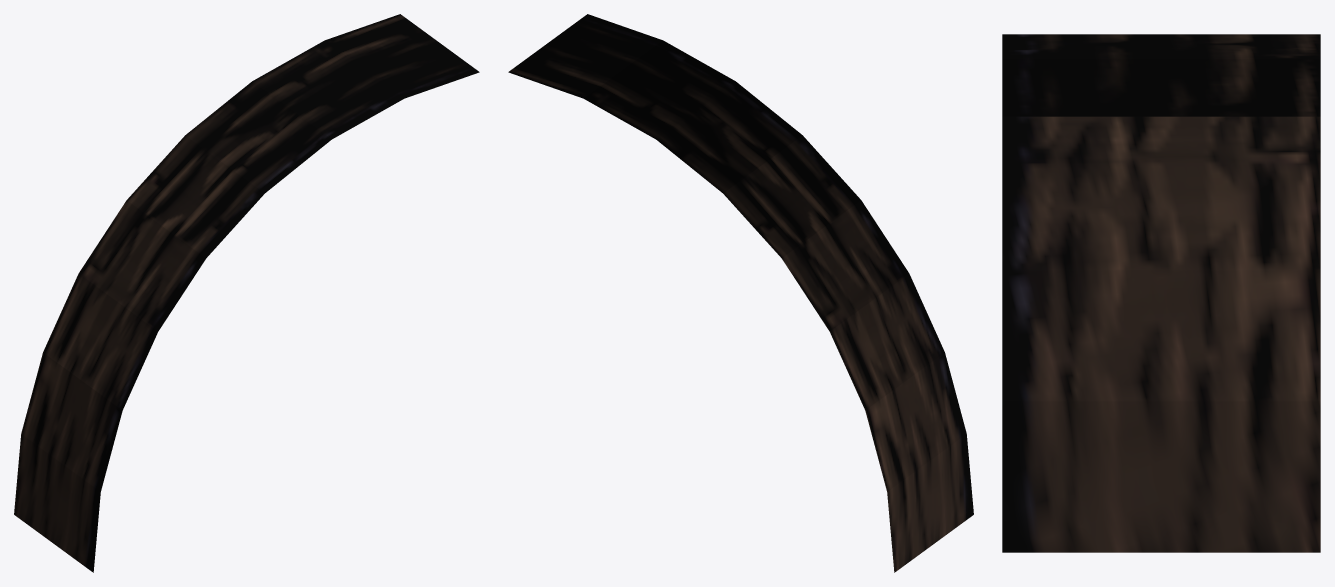
Rendered from collide_InCorner0.obj.
3 views of the same model, side by side, from view 1: azimuth 30°, elevation 25°; view 2: azimuth 150°, elevation 25°; view 3: azimuth 270°, elevation 25° (orthographic). The views are drawn at different scales.
Visible parts, largest first — view 1: ex_InCorner0_Cube; view 2: ex_InCorner0_Cube; view 3: ex_InCorner0_Cube.
Boxes of the visible parts, left/top/right/bottom form: ex_InCorner0_Cube: left=14, top=14, right=479, bottom=572; ex_InCorner0_Cube: left=508, top=14, right=973, bottom=572; ex_InCorner0_Cube: left=1002, top=34, right=1320, bottom=552.
Bounding box in the file's own units: 120 × 121 × 42.91.
